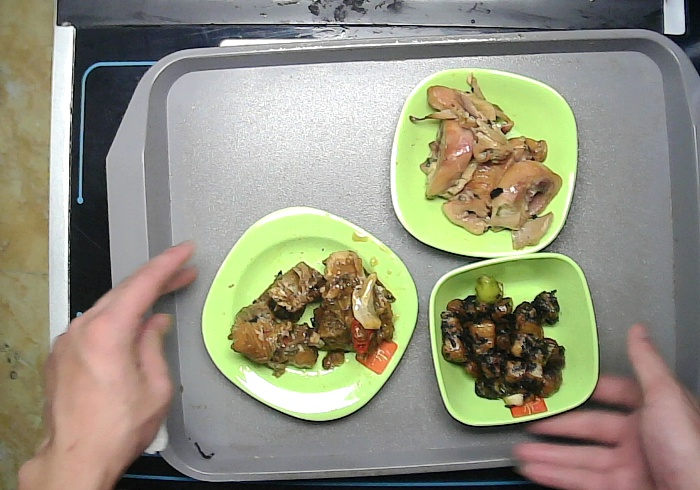SHKJ-Lv_Se_Cai_Die: (391, 63, 581, 247)
SHKJ-Lv_Se_Si_Fang_Cai_Die: (197, 202, 421, 428)
SHKJ-Lv_Se_Xiao_Fang_Die: (425, 253, 604, 426)
